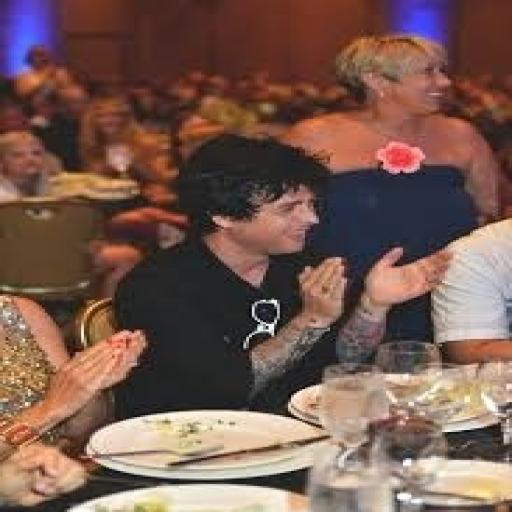clapping: (119, 119, 512, 512), (0, 72, 246, 512)
